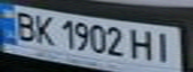0: (87, 21, 106, 55)
1: (54, 17, 75, 50)
2: (106, 24, 130, 58)
9: (69, 19, 90, 52)
B: (9, 8, 39, 43)
H: (127, 26, 157, 62)
I: (151, 29, 181, 63)
K: (30, 12, 57, 46)
